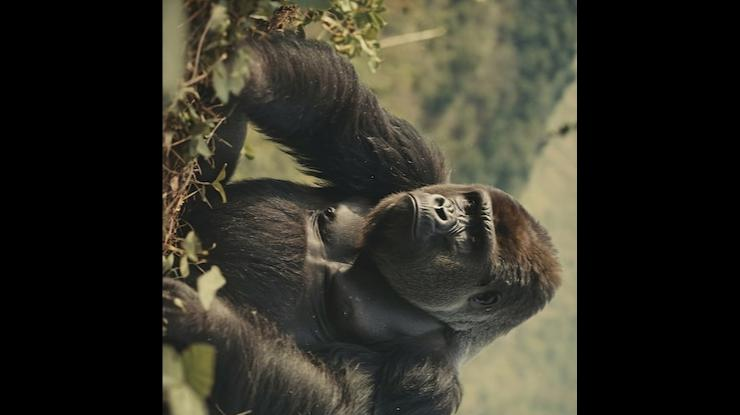goriile_montagne: (162, 27, 572, 415)
